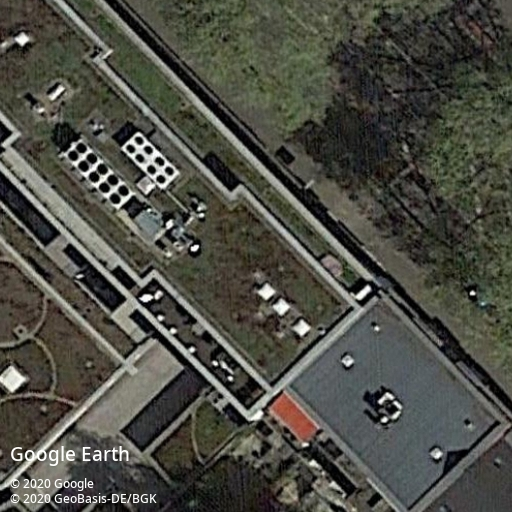Chiller: (63, 139, 133, 209), (121, 131, 181, 190)
